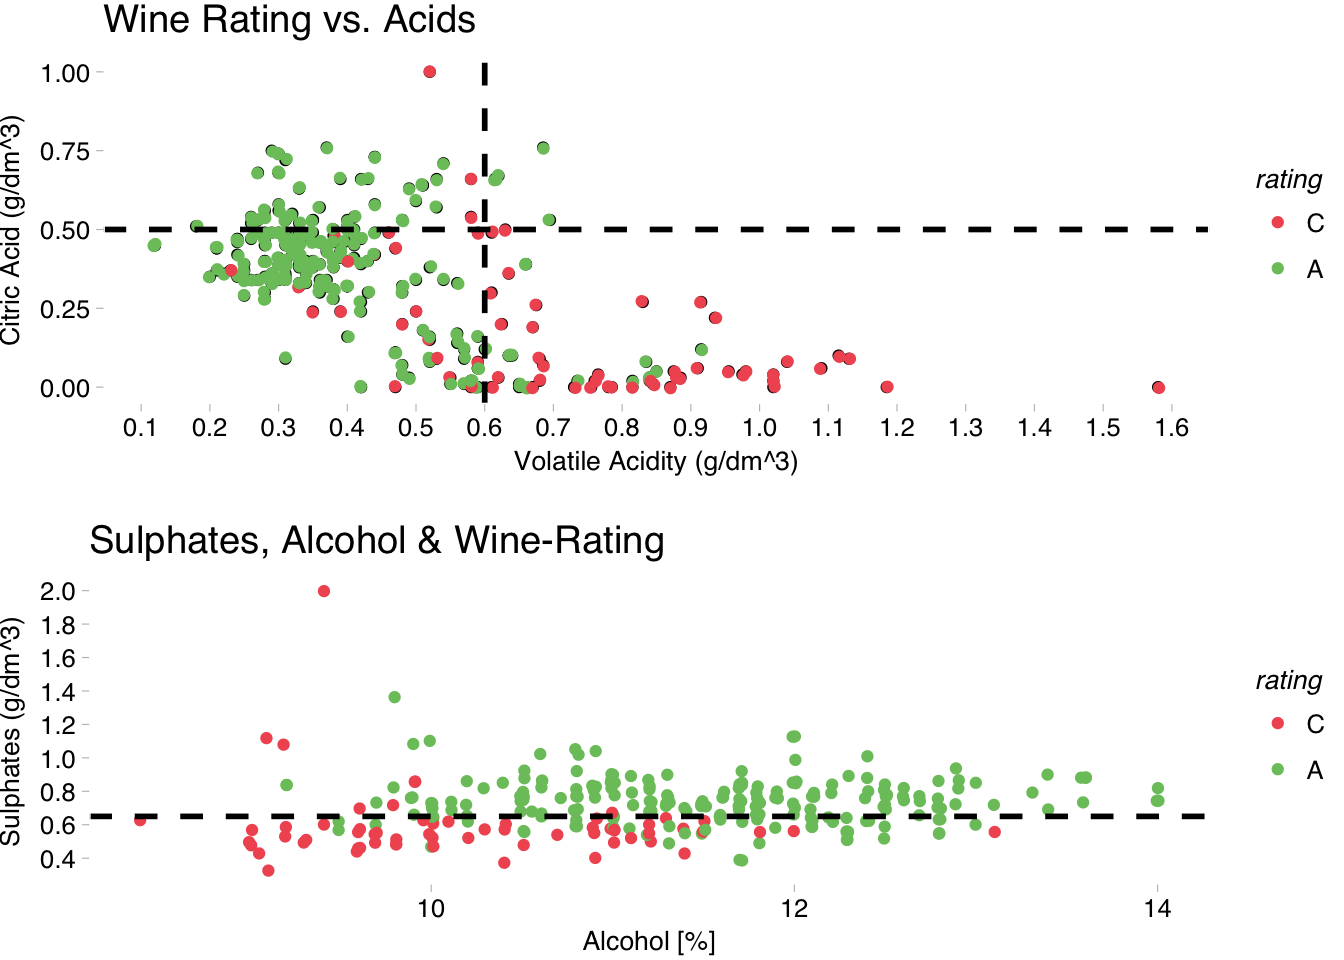

The dashboard page shown, as its layout file describes it:
{"tool":"tableau","page":{"name":"Dashboard 3","canvas":[1000,800],"ordinal":2},"visuals":[{"type":"worksheet","title":"Sheet 5","mark":"Automatic","rows":["Apogee"],"cols":["Distance Travelled"],"box":[8,8,824,392]},{"type":"legend","title":"Sheet 5","param":"[federated.0hw1b5w1bimaj911j3dq0028rvwf].[none:Missile Type:nk]","box":[832,8,160,166]},{"type":"worksheet","title":"Sheet 8","mark":"Automatic","rows":["Landing Location"],"cols":["Number of Records"],"box":[8,400,824,392]}]}

Visuals, with their boxes on the page's 1000x800 design canvas (x1, y1, x2, y2). These are canvas units, not pixel positions in the 1344x960 screenshot, which may show the page scaled, cropped or inside an application window:
"Sheet 5" worksheet: <bbox>8, 8, 832, 400</bbox>
"Sheet 5" legend: <bbox>832, 8, 992, 174</bbox>
"Sheet 8" worksheet: <bbox>8, 400, 832, 792</bbox>
